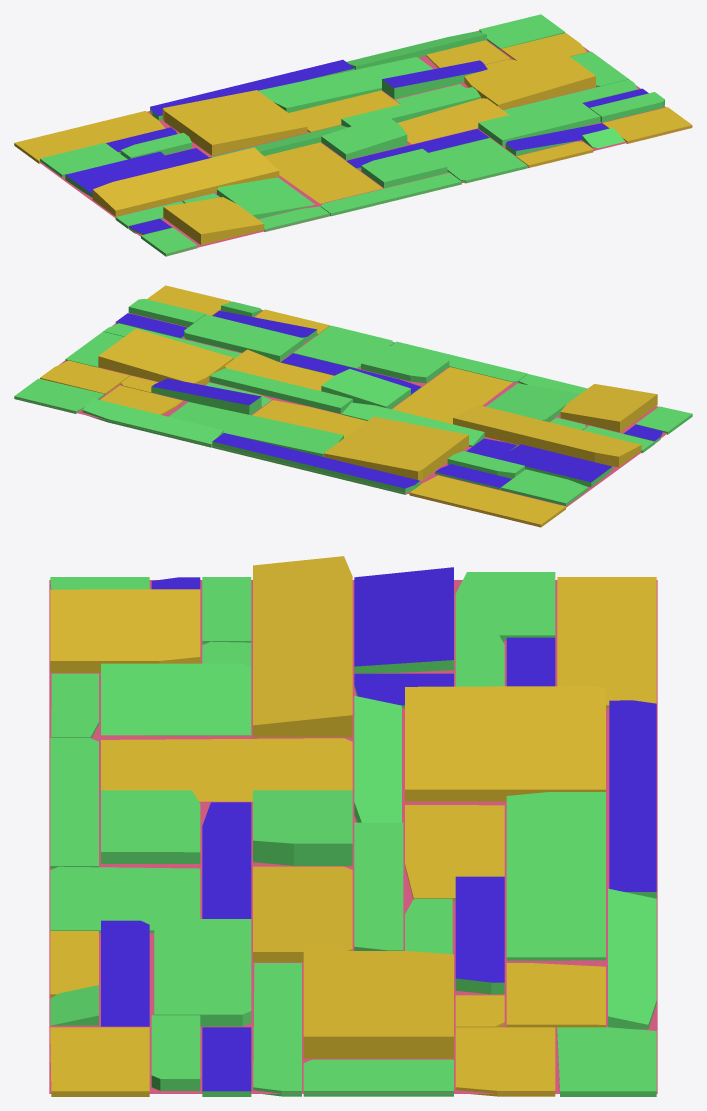
File: StoneSlate_high.fbx
The picture shows the model from 3 angles, top to bottom: view 1: azimuth 30°, elevation 25°; view 2: azimuth 150°, elevation 25°; view 3: azimuth 270°, elevation 25°; orthographic projection. The views are drawn at different scales.
Parts seen in each view (by area): view 1: Plane.029; view 2: Plane.029; view 3: Plane.029.
Boxes of the visible parts, left/top/right/bottom form: Plane.029: left=14, top=14, right=692, bottom=256; Plane.029: left=14, top=285, right=692, bottom=527; Plane.029: left=49, top=556, right=657, bottom=1096.
Bounding box in the file's own units: 200 × 6.29 × 100.
